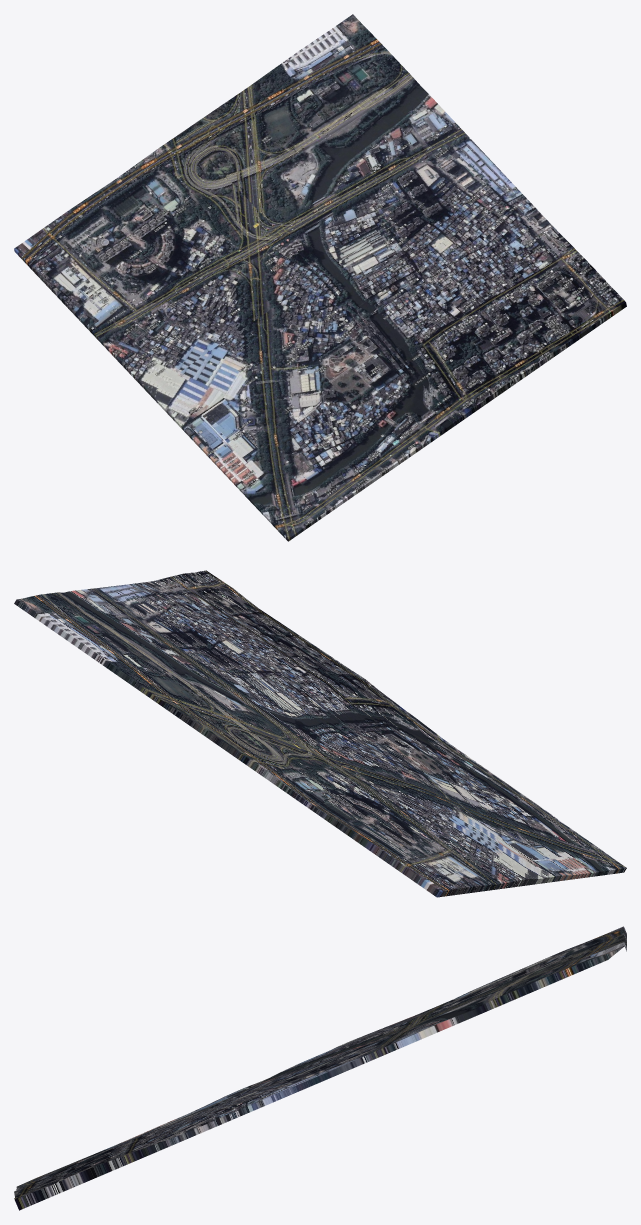
3 views of the same model, one above another, from view 1: azimuth 30°, elevation 25°; view 2: azimuth 150°, elevation 25°; view 3: azimuth 270°, elevation 25° (orthographic). The views are drawn at different scales.
Visible parts, largest first — view 1: 1_10_9; view 2: 1_10_9; view 3: 1_10_9.
Boxes of the visible parts, bbox=[...] form: 1_10_9: bbox=[14, 14, 626, 541]; 1_10_9: bbox=[14, 570, 626, 897]; 1_10_9: bbox=[14, 926, 626, 1210].
Bounding box in the file's own units: 1228 × 892 × 1129.
Materials: 1 (1 with a texture image).
